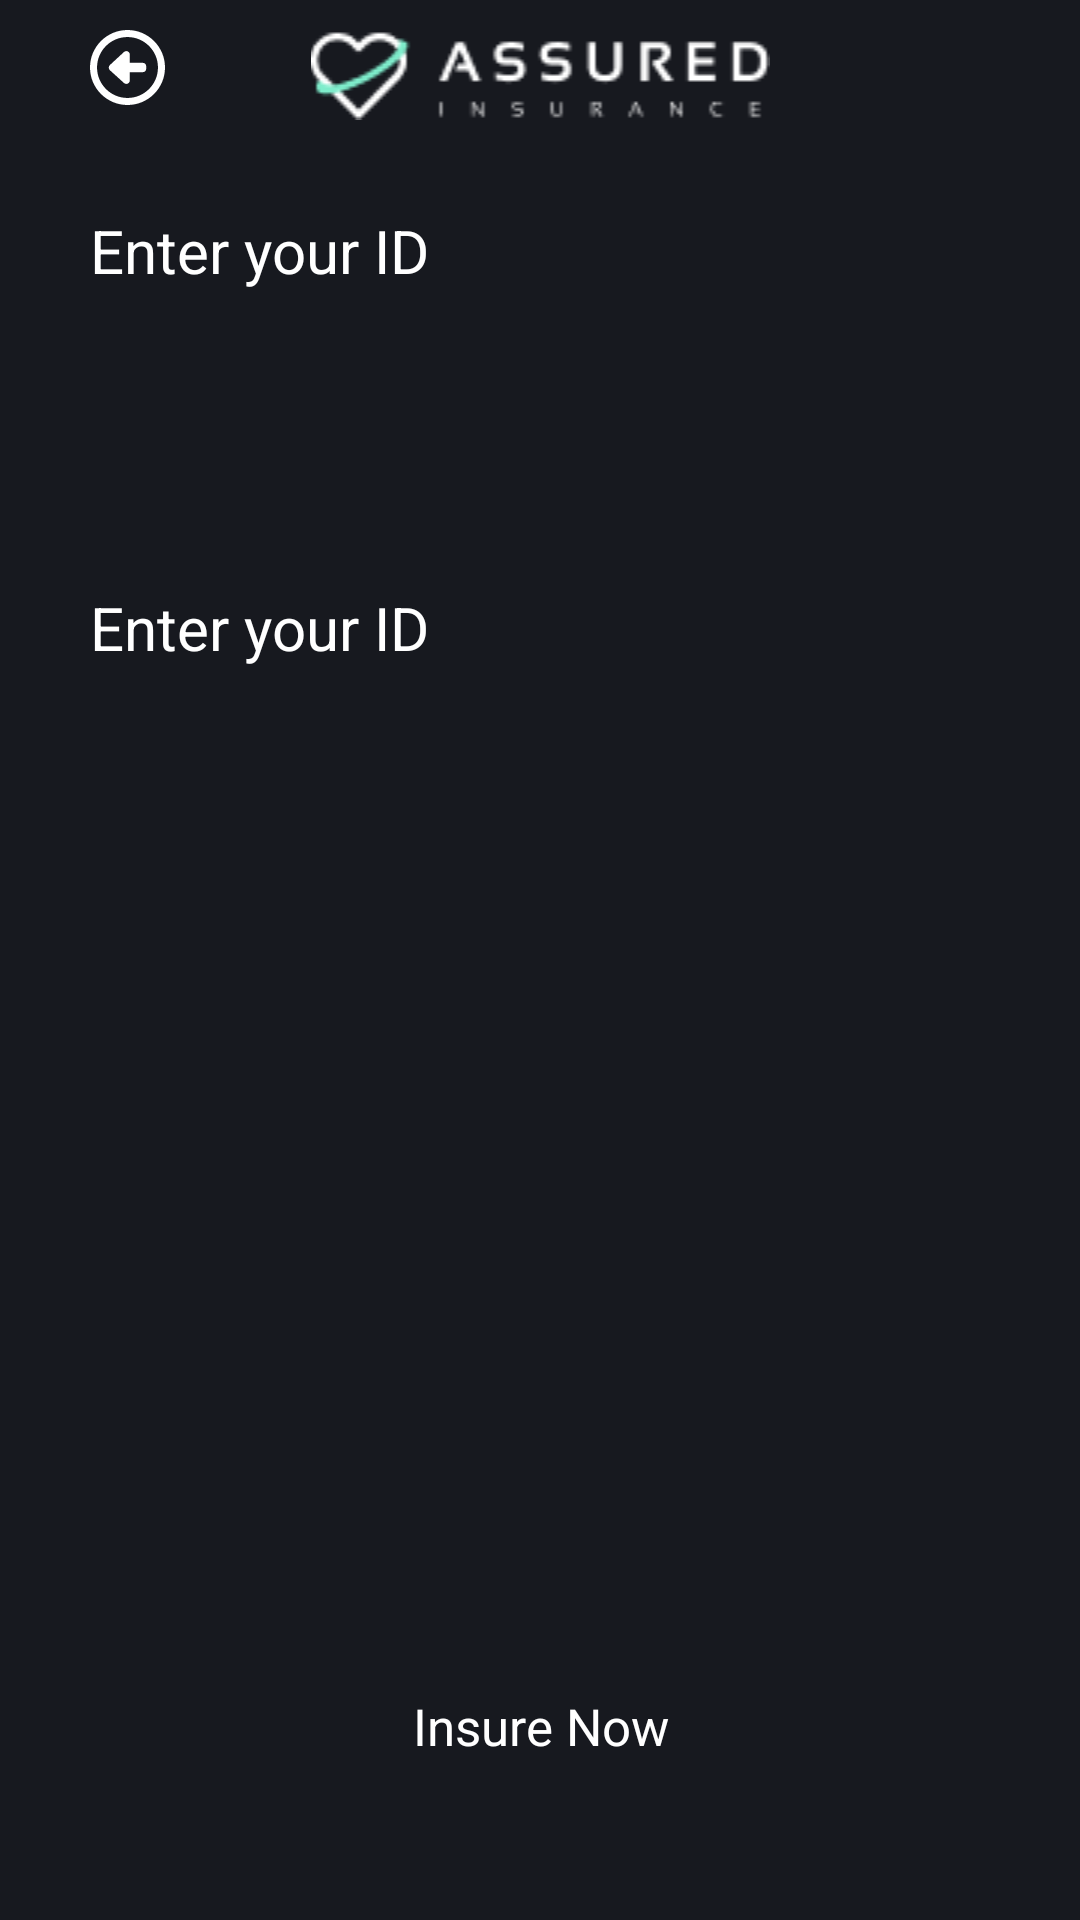

Icon click points for this 1080px×1920px phone screenshot, format point (x, y):
back: point (127, 67)
